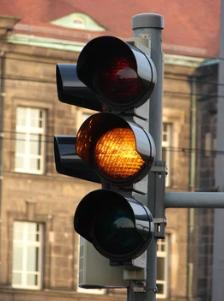yellow_light: (74, 35, 155, 266)
